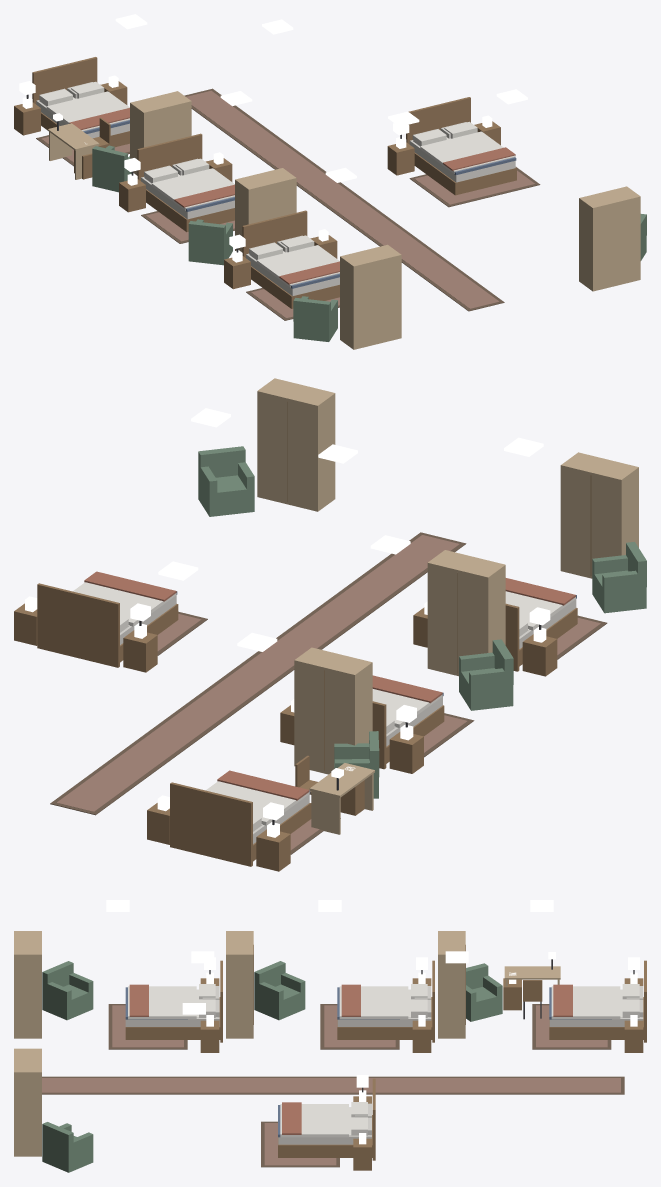
The model's file is fine-s1.glb.
3 views of the same model, one above another, from view 1: azimuth 30°, elevation 25°; view 2: azimuth 150°, elevation 25°; view 3: azimuth 270°, elevation 25° (orthographic). The views are drawn at different scales.
Visible parts, largest first — view 1: soft-s1, dresser.000, dresser.003, bed-frame.000, bed-frame.003, bed-frame.002, dresser.002, dresser.001, bed-frame.001, lounge-chair.003, lounge-chair.002, writing-desk.000 (+5 smaller); view 2: soft-s1, dresser.000, dresser.003, dresser.002, dresser.001, bed-frame.000, bed-frame.001, lounge-chair.000, lounge-chair.002, lounge-chair.003, writing-desk.000, bed-frame.003 (+8 smaller); view 3: soft-s1, dresser.000, dresser.002, dresser.003, dresser.001, lounge-chair.002, lounge-chair.003, bed-frame.000, bed-frame.001, bed-frame.002, bed-frame.003, lounge-chair.000 (+8 smaller).
Boxes of the visible parts, bbox=[...] form: soft-s1: bbox=[19, 81, 540, 320]; dresser.000: bbox=[579, 186, 640, 291]; dresser.003: bbox=[340, 244, 401, 349]; bed-frame.000: bbox=[406, 97, 516, 195]; bed-frame.003: bbox=[242, 210, 339, 308]; bed-frame.002: bbox=[137, 133, 234, 232]; dresser.002: bbox=[235, 168, 296, 252]; dresser.001: bbox=[130, 91, 191, 175]; bed-frame.001: bbox=[32, 57, 129, 148]; lounge-chair.003: bbox=[293, 296, 337, 341]; lounge-chair.002: bbox=[188, 219, 232, 265]; writing-desk.000: bbox=[48, 113, 99, 179]; soft-s1: bbox=[50, 532, 607, 854]; dresser.000: bbox=[257, 378, 335, 511]; dresser.003: bbox=[560, 452, 638, 578]; dresser.002: bbox=[427, 550, 505, 676]; dresser.001: bbox=[294, 647, 372, 774]; bed-frame.000: bbox=[37, 583, 178, 667]; bed-frame.001: bbox=[170, 782, 311, 866]; lounge-chair.000: bbox=[198, 446, 254, 516]; lounge-chair.002: bbox=[459, 639, 513, 710]; lounge-chair.003: bbox=[592, 541, 646, 613]; writing-desk.000: bbox=[309, 763, 374, 834]; bed-frame.003: bbox=[505, 595, 577, 671]; soft-s1: bbox=[42, 957, 641, 1167]; dresser.000: bbox=[14, 1048, 41, 1156]; dresser.002: bbox=[226, 931, 253, 1038]; dresser.003: bbox=[14, 931, 41, 1038]; dresser.001: bbox=[438, 931, 465, 1038]; lounge-chair.002: bbox=[254, 961, 305, 1020]; lounge-chair.003: bbox=[42, 961, 93, 1020]; bed-frame.000: bbox=[278, 1078, 375, 1160]; bed-frame.001: bbox=[549, 960, 646, 1042]; bed-frame.002: bbox=[337, 960, 434, 1042]; bed-frame.003: bbox=[125, 960, 222, 1042]; lounge-chair.000: bbox=[42, 1122, 93, 1172].
Bounding box in the file's own units: 8.92 × 3.08 × 13.62.
